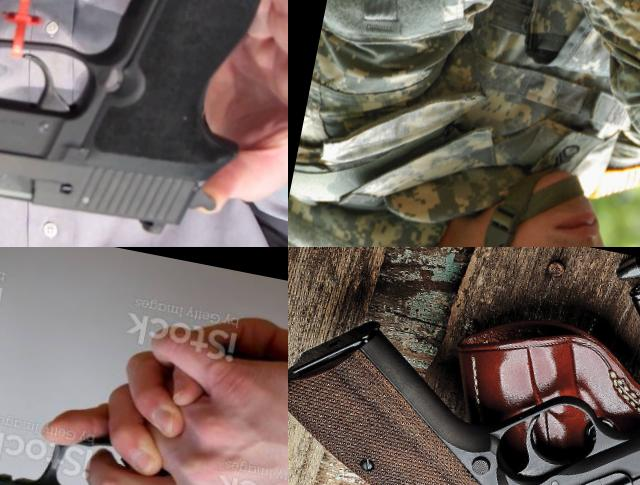handgun: (288, 258, 640, 485), (0, 0, 288, 247), (0, 384, 288, 485)
